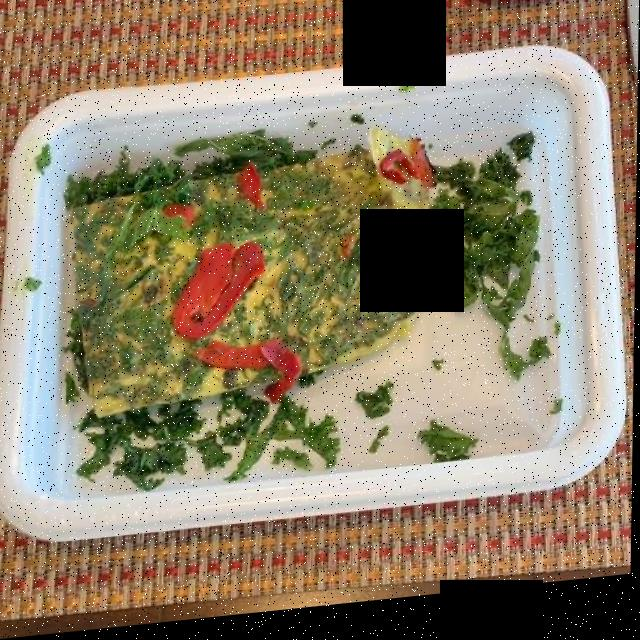bell-pepper-red-raw: (141, 151, 443, 431), (173, 202, 316, 419), (264, 147, 436, 204)
omelette-plain: (71, 134, 450, 428), (67, 136, 443, 417)
